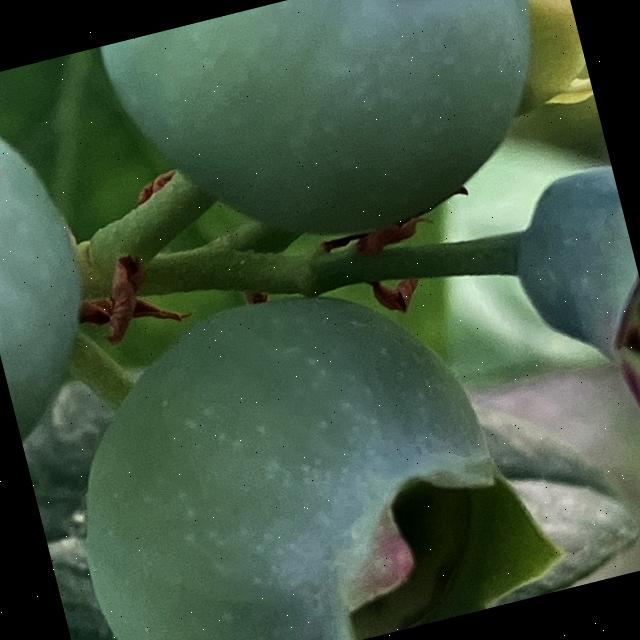Blueberries: (27, 232, 580, 640), (92, 0, 609, 286)
